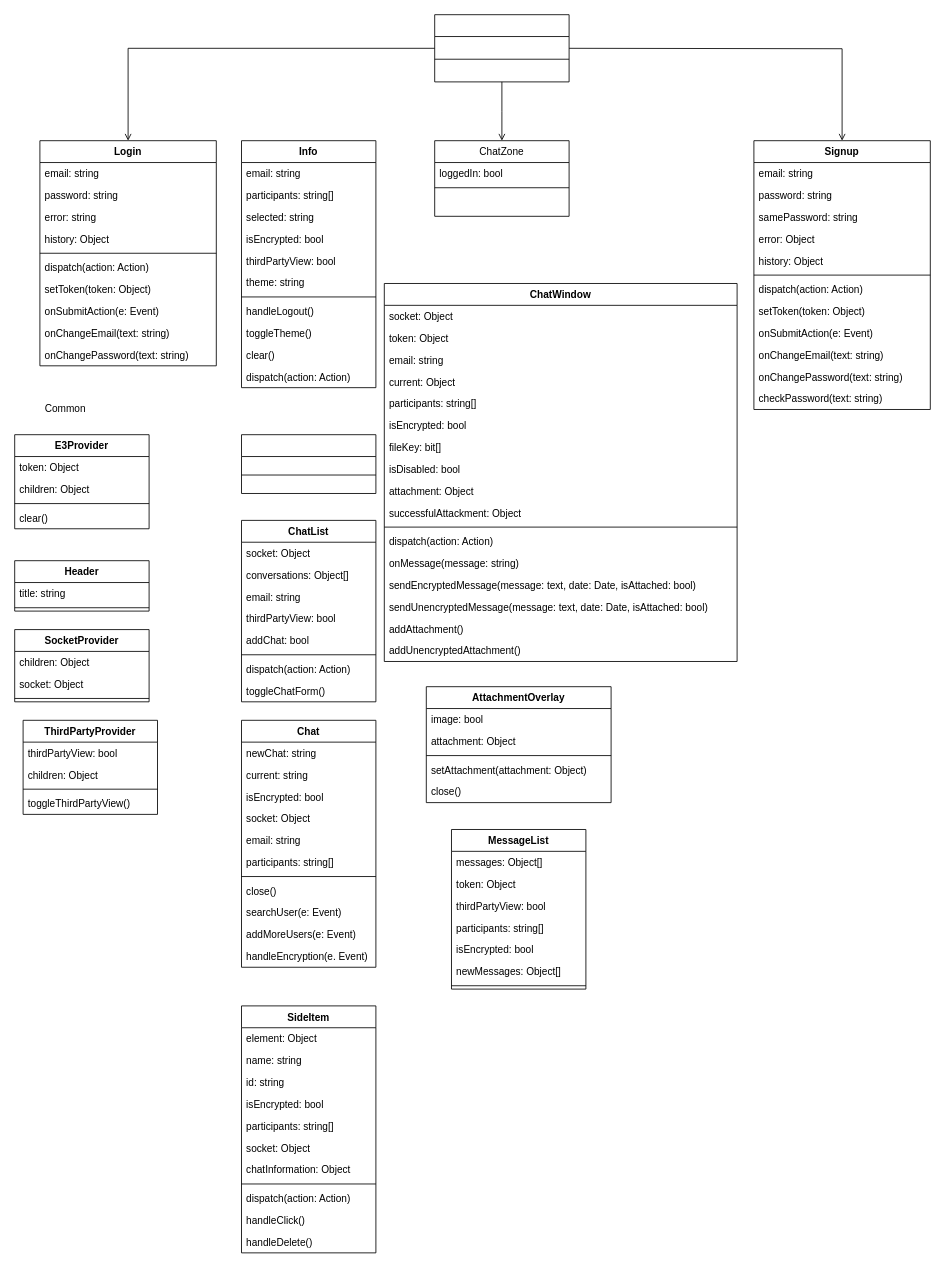
This 945x1270 diagram has some shape labels left out. Each missing label, with the centre of its shape:
App: pixel 501 48
SidePanel: pixel 308 464
